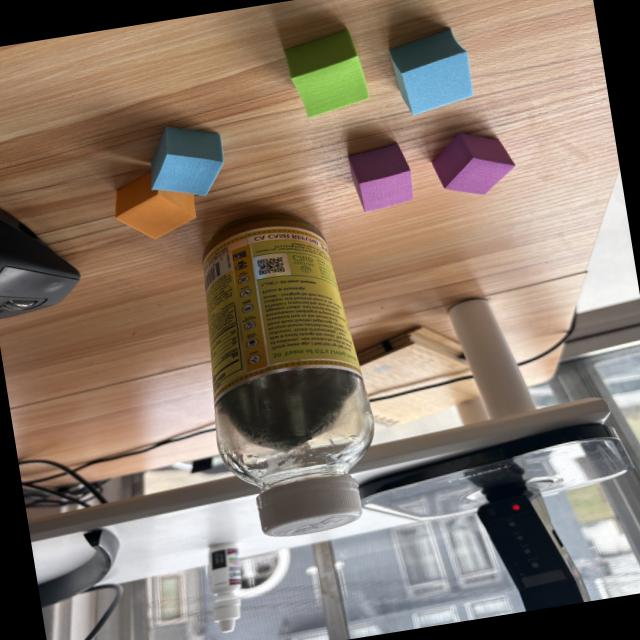bluecube: (390, 29, 473, 115), (151, 127, 223, 196)
greencube: (285, 29, 369, 117)
orangecube: (115, 173, 196, 239)
purplecube: (432, 133, 515, 194), (349, 144, 413, 212)
